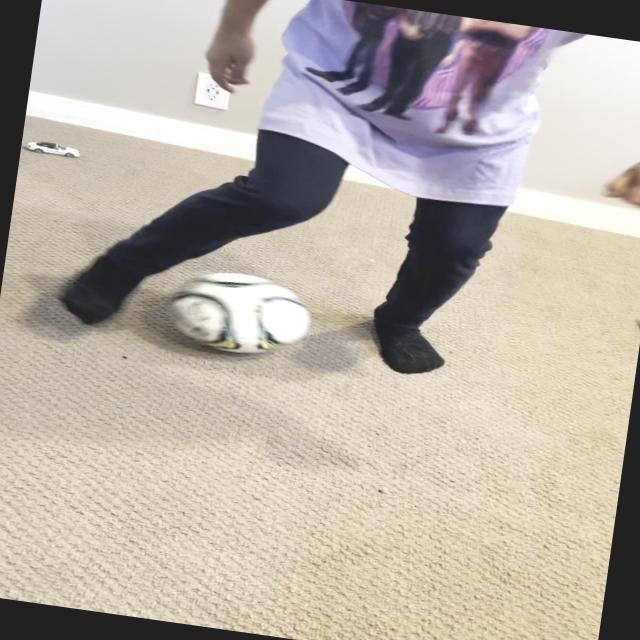Soccer Ball: (162, 264, 316, 363)
